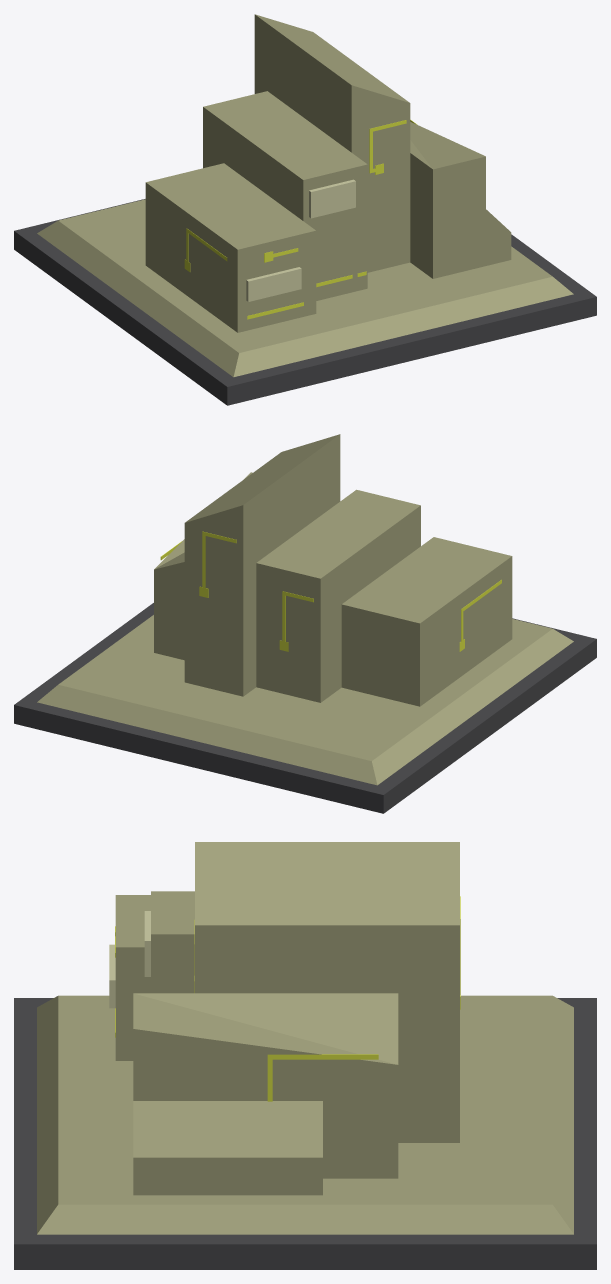
The model's file is archotech_major.obj.
3 renders of one model, top to bottom at view 1: azimuth 30°, elevation 25°; view 2: azimuth 150°, elevation 25°; view 3: azimuth 270°, elevation 25°, orthographic. The views are drawn at different scales.
Parts seen in each view (by area): view 1: archotech_major_1, archotech_major_2, archotech_major_0, archotech_major_4, archotech_major_3, archotech_major_5, archotech_major_7, archotech_major_8, archotech_major_6; view 2: archotech_major_1, archotech_major_2, archotech_major_4, archotech_major_3, archotech_major_0, archotech_major_5; view 3: archotech_major_1, archotech_major_4, archotech_major_5, archotech_major_0, archotech_major_6, archotech_major_3, archotech_major_2, archotech_major_18.
Part boxes in pixels (<box>): archotech_major_1: <box>37,199,573,377</box>; archotech_major_2: <box>145,163,316,332</box>; archotech_major_0: <box>14,199,596,405</box>; archotech_major_4: <box>254,14,410,272</box>; archotech_major_3: <box>203,91,367,300</box>; archotech_major_5: <box>410,122,485,278</box>; archotech_major_7: <box>309,179,355,218</box>; archotech_major_8: <box>246,267,301,301</box>; archotech_major_6: <box>486,209,511,265</box>; archotech_major_1: <box>37,615,573,785</box>; archotech_major_2: <box>341,537,512,706</box>; archotech_major_4: <box>184,434,340,696</box>; archotech_major_3: <box>256,489,420,702</box>; archotech_major_0: <box>14,603,596,813</box>; archotech_major_5: <box>154,472,252,660</box>; archotech_major_1: <box>37,995,573,1234</box>; archotech_major_4: <box>195,842,459,1142</box>; archotech_major_5: <box>133,993,398,1178</box>; archotech_major_0: <box>14,998,596,1269</box>; archotech_major_6: <box>133,1101,322,1195</box>; archotech_major_3: <box>151,891,194,993</box>; archotech_major_2: <box>115,895,150,1060</box>; archotech_major_18: <box>267,1054,378,1059</box>.
Size of the model in its own units: 6.6 by 3.85 by 6.6.
